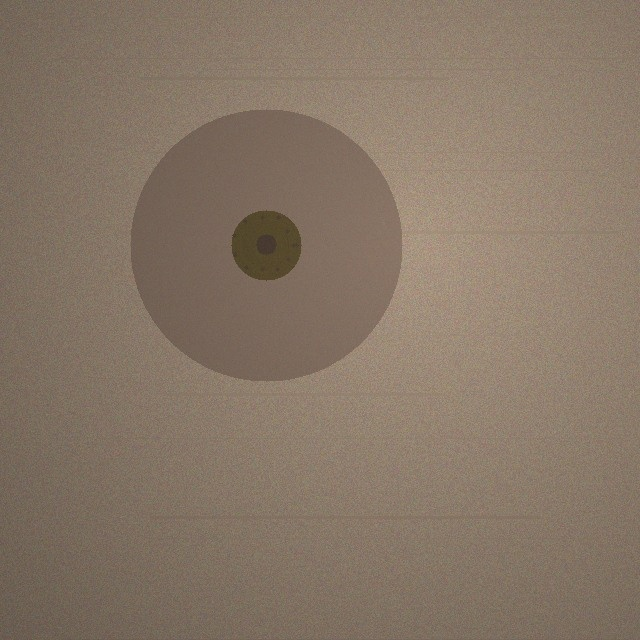cold_weld: (130, 109, 402, 381)
